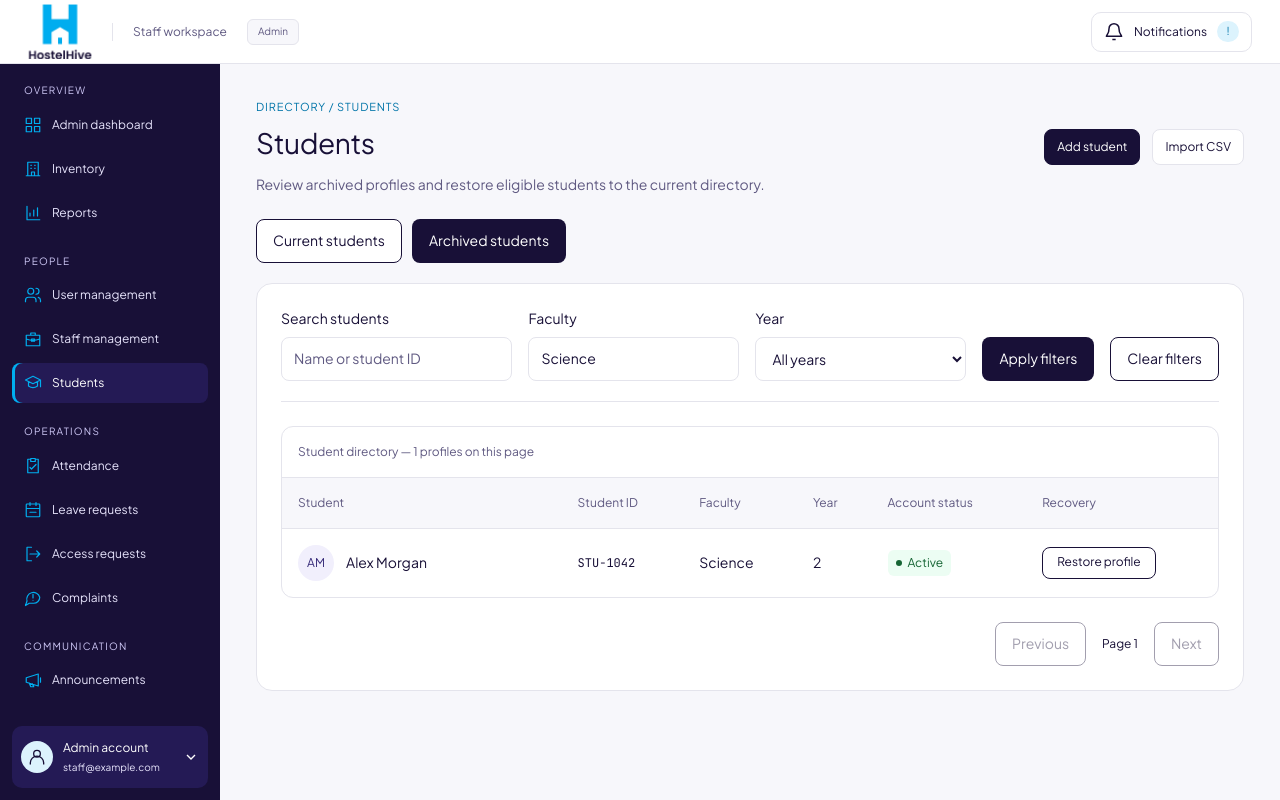
Test: archived student restoration › shows unknown accommodation after confirmed restoration
The width and height of the screenshot is (1280, 800).
Click the button with aria-label "Restore Alex Morgan".
click(1099, 563)  # box top-left (1042, 547), bottom-right (1156, 579)
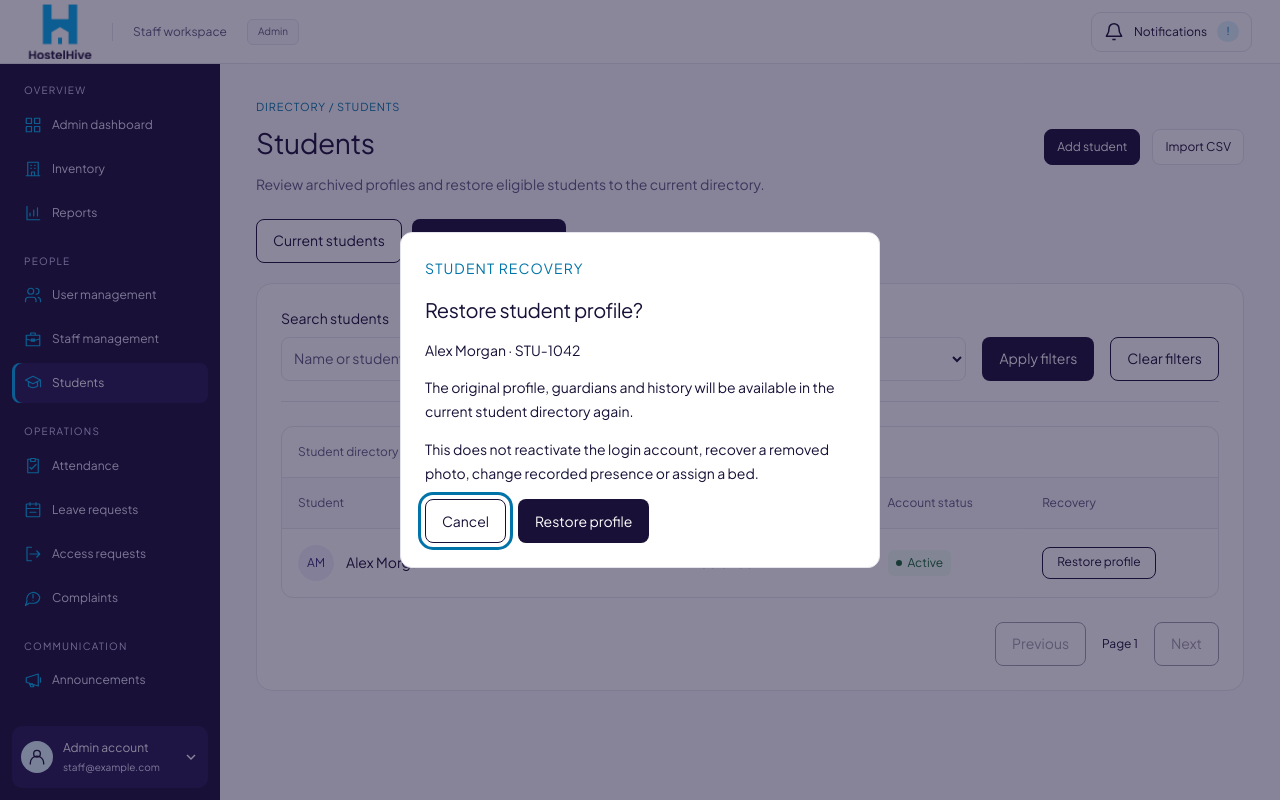
Click the button "Restore profile".
click(584, 522)  # box top-left (518, 500), bottom-right (649, 544)
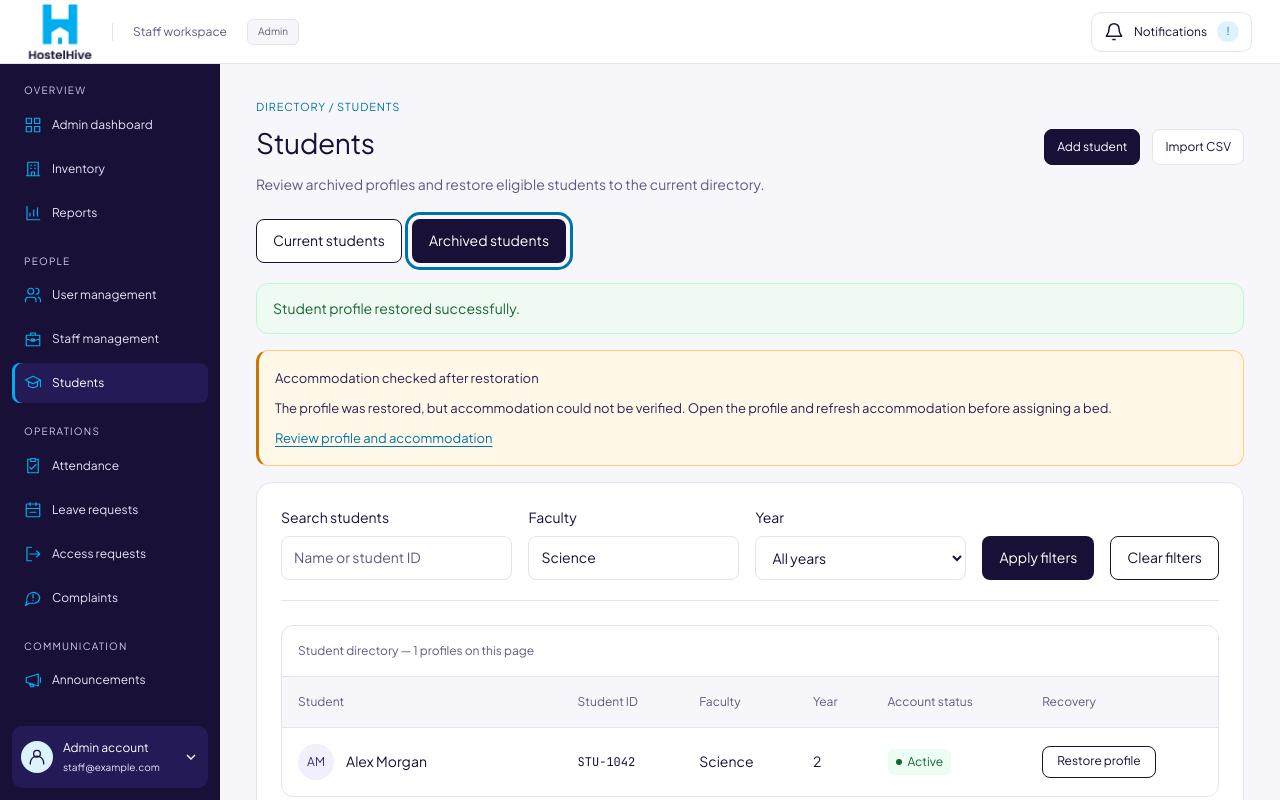
Result: the text "Student profile restored successfully." is shown at top-left (256, 283), bottom-right (1244, 334)
Result: the text "accommodation could not be verified" is shown at top-left (275, 400), bottom-right (1112, 416)
